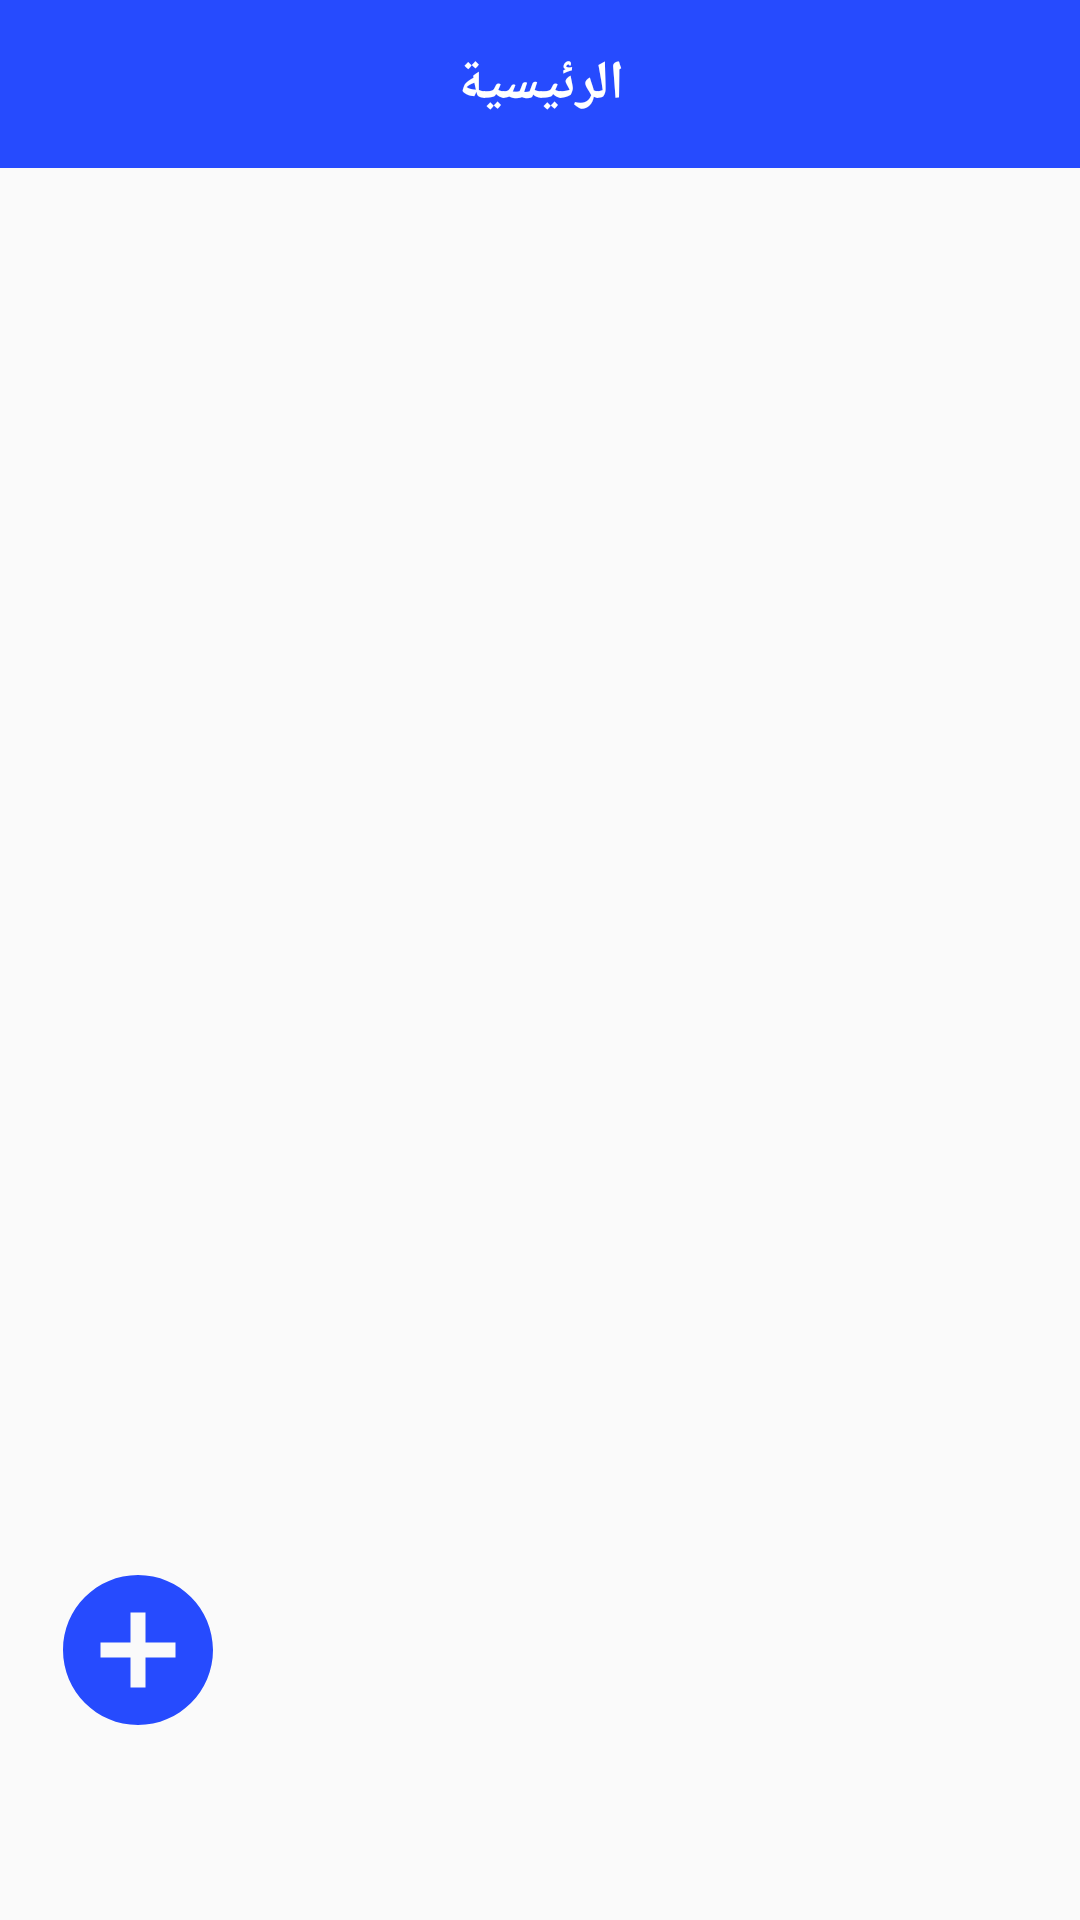

Named icons in this screenshot (1080px x 1920px) and their bounding boxes, bbox(x1, y1, x2, y2):
add circle: bbox(63, 1575, 213, 1725)
